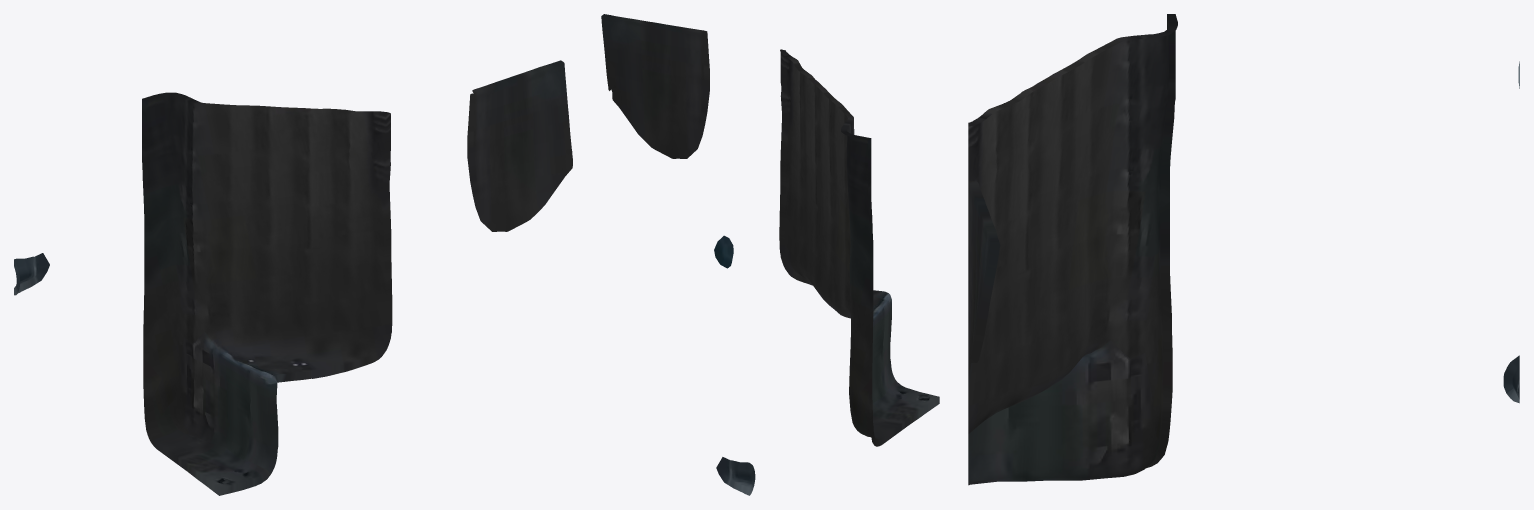
The model's file is z20-167762-405236-h0-yup-uvflip-v3-world.glb.
The picture shows the model from 3 angles, left to right: view 1: azimuth 30°, elevation 25°; view 2: azimuth 150°, elevation 25°; view 3: azimuth 270°, elevation 25°; orthographic projection. The views are drawn at different scales.
Bounding box in the file's own units: 30.16 × 27.76 × 30.32.
Materials: 1 (1 with a texture image).
